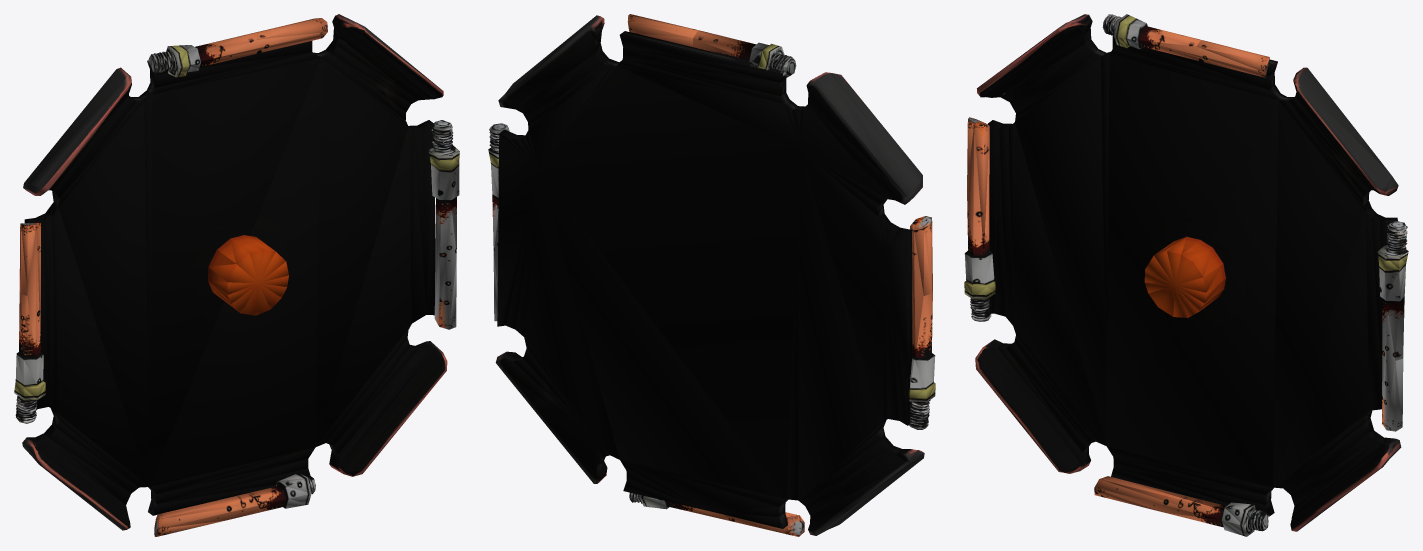
The model's file is tail_spoiler.glb.
The picture shows the model from 3 angles, left to right: view 1: azimuth 30°, elevation 25°; view 2: azimuth 150°, elevation 25°; view 3: azimuth 330°, elevation 25°; orthographic projection.
Visible parts, largest first — view 1: tripo_node_842e5a21-3c26-4287-9abd-72ca7d3b0bdf; view 2: tripo_node_842e5a21-3c26-4287-9abd-72ca7d3b0bdf; view 3: tripo_node_842e5a21-3c26-4287-9abd-72ca7d3b0bdf.
Part boxes in pixels (x1,y1,x2,y2): tripo_node_842e5a21-3c26-4287-9abd-72ca7d3b0bdf: (14, 14, 459, 536); tripo_node_842e5a21-3c26-4287-9abd-72ca7d3b0bdf: (488, 14, 935, 536); tripo_node_842e5a21-3c26-4287-9abd-72ca7d3b0bdf: (964, 14, 1408, 536).
Bounding box in the file's own units: 0.9434 × 0.998 × 0.0996.
1 material, 1 textured.
